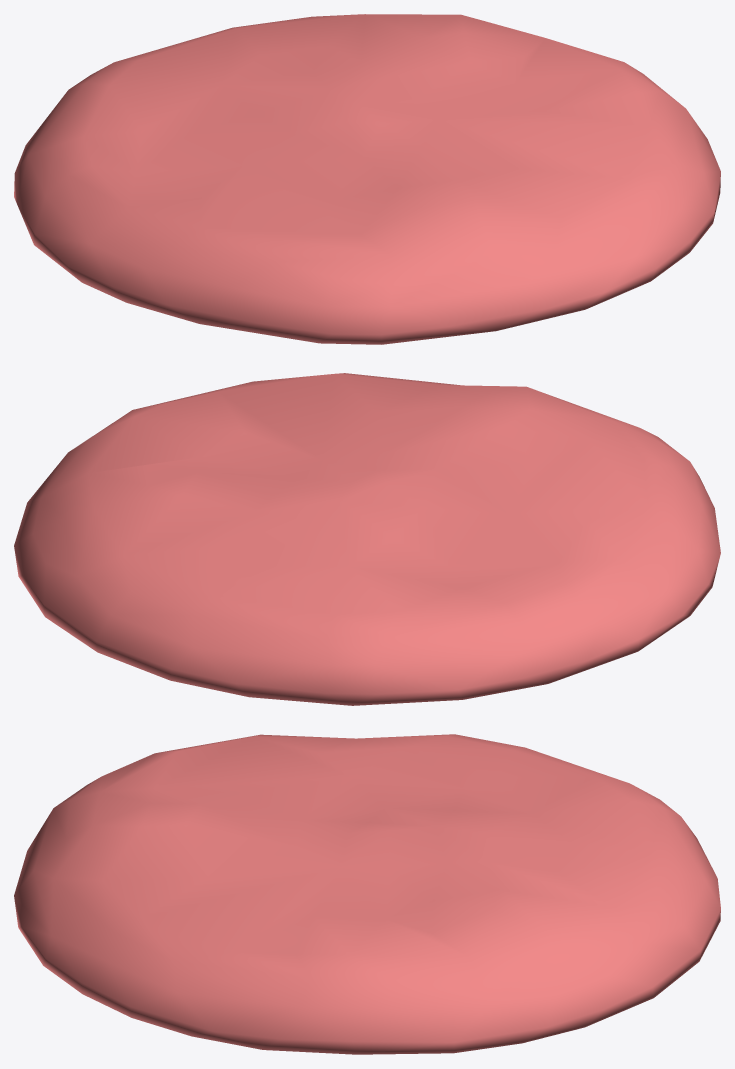
3 views of the same model, one above another, from view 1: azimuth 30°, elevation 25°; view 2: azimuth 150°, elevation 25°; view 3: azimuth 270°, elevation 25° (orthographic).
Visible parts, largest first — view 1: straw_ice; view 2: straw_ice; view 3: straw_ice.
Part boxes in pixels (bbox=[...]): straw_ice: bbox=[14, 14, 720, 344]; straw_ice: bbox=[14, 373, 720, 705]; straw_ice: bbox=[14, 734, 720, 1054].
Bounding box in the file's own units: 1.25 × 0.164 × 1.25.
